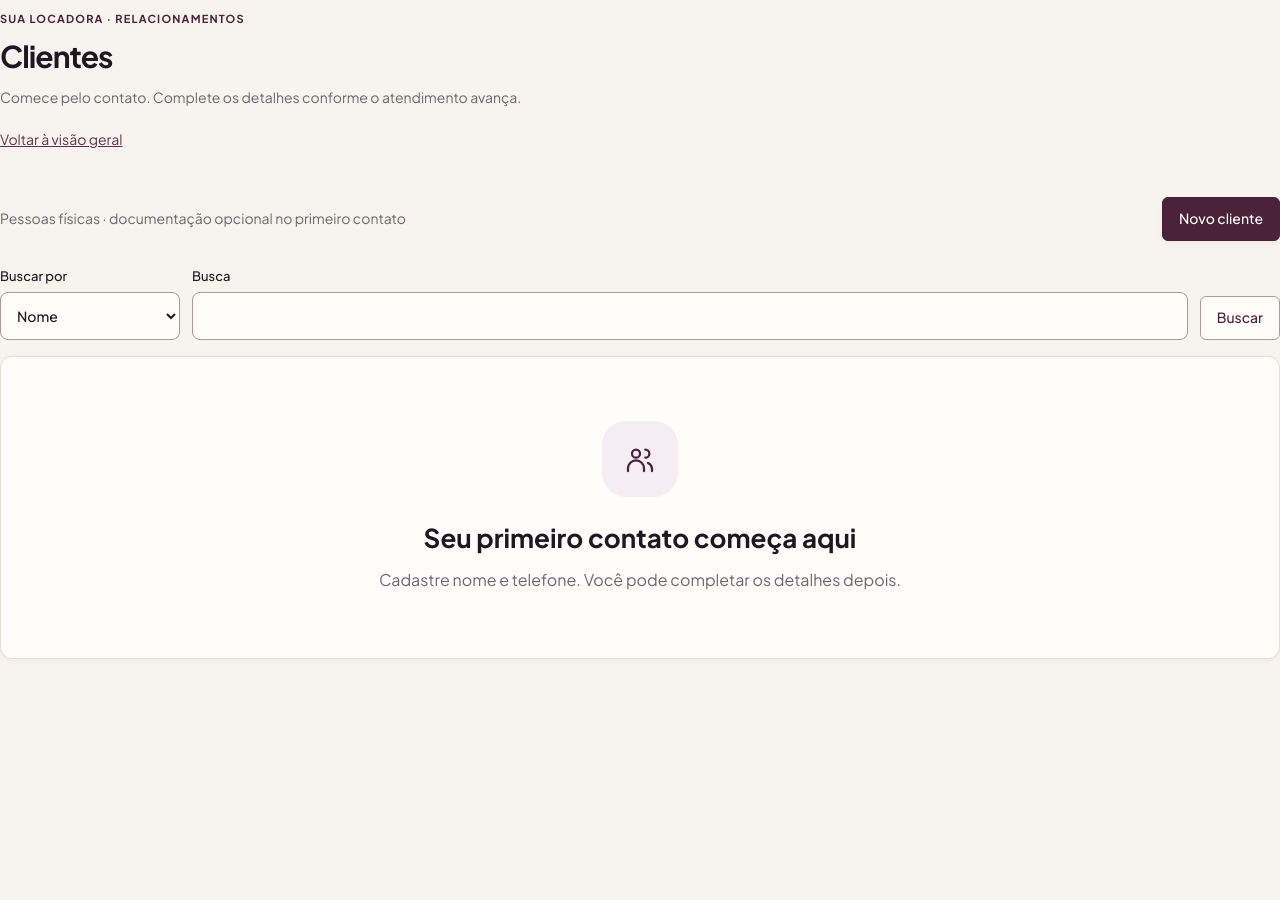
Test case: customers interface › creates minimum fields and shows the authoritative empty commercial history
Click the button "Novo cliente".
click(1221, 219)  # box [1162,197,1279,241]
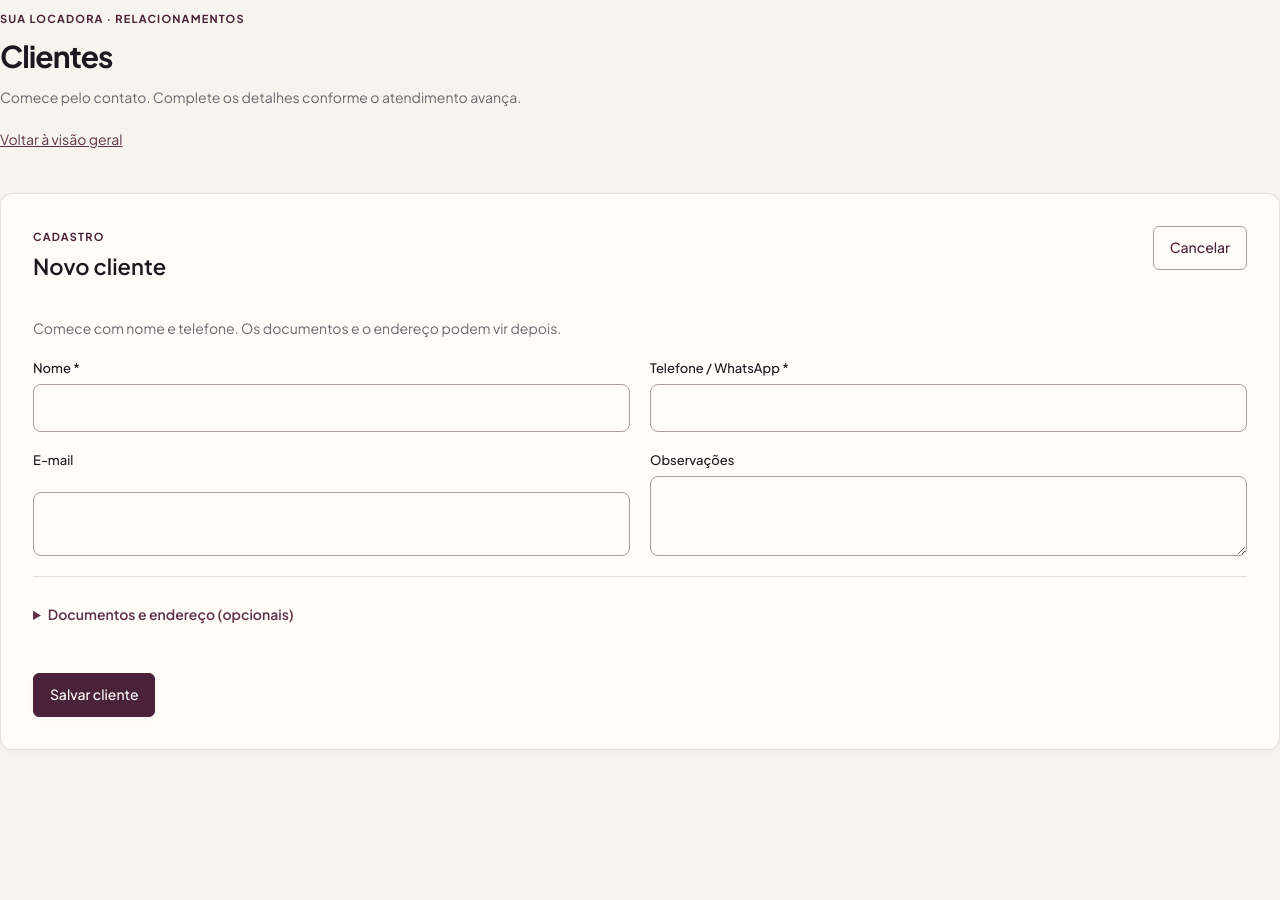
Type "Pessoa sintética" into the field labelled "Nome *".
click(332, 408); type("Pessoa sintética")  # box [33,384,630,432]
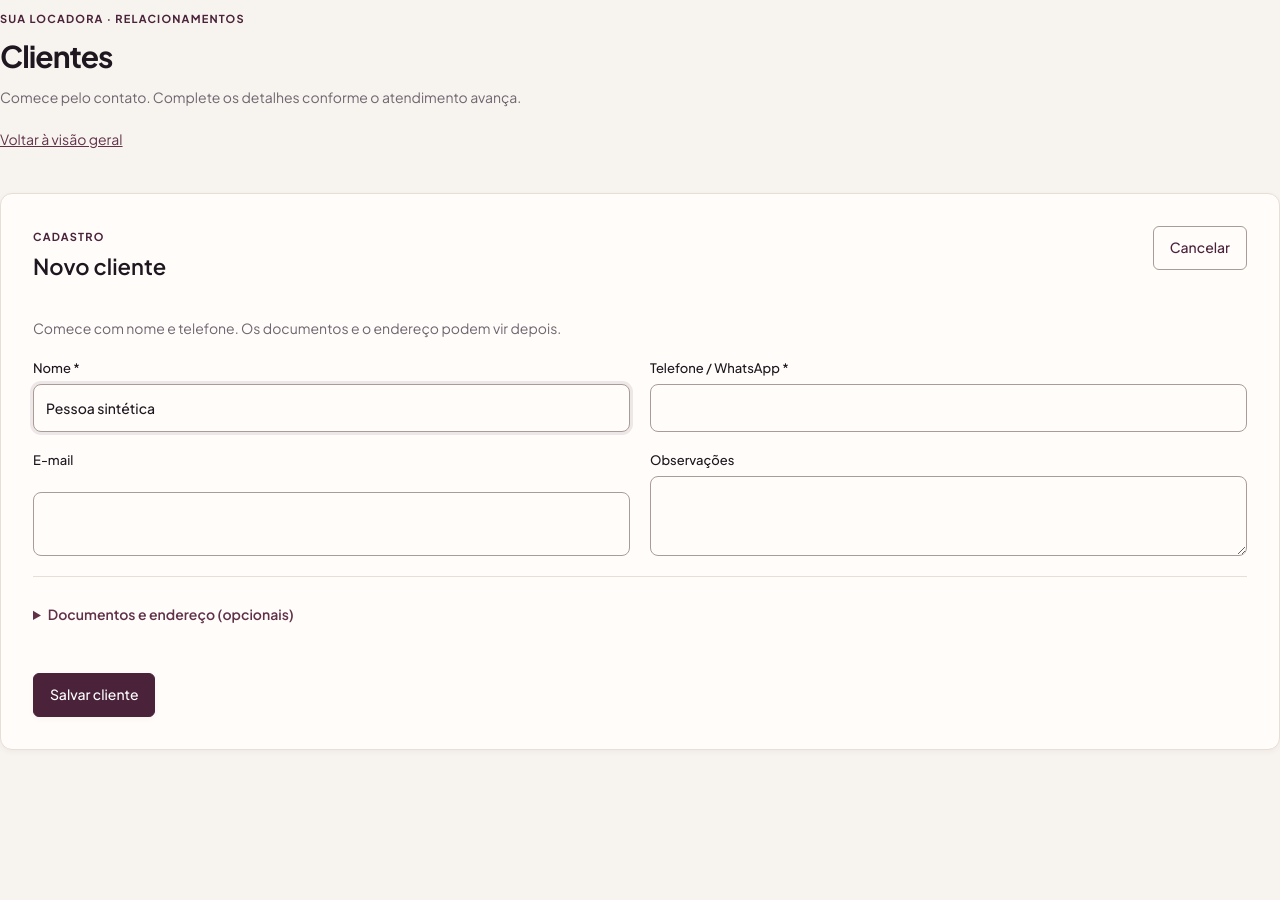
Type "(11) 91234-5678" into the field labelled "Telefone / WhatsApp *".
click(948, 408); type("(11) 91234-5678")  # box [650,384,1247,432]
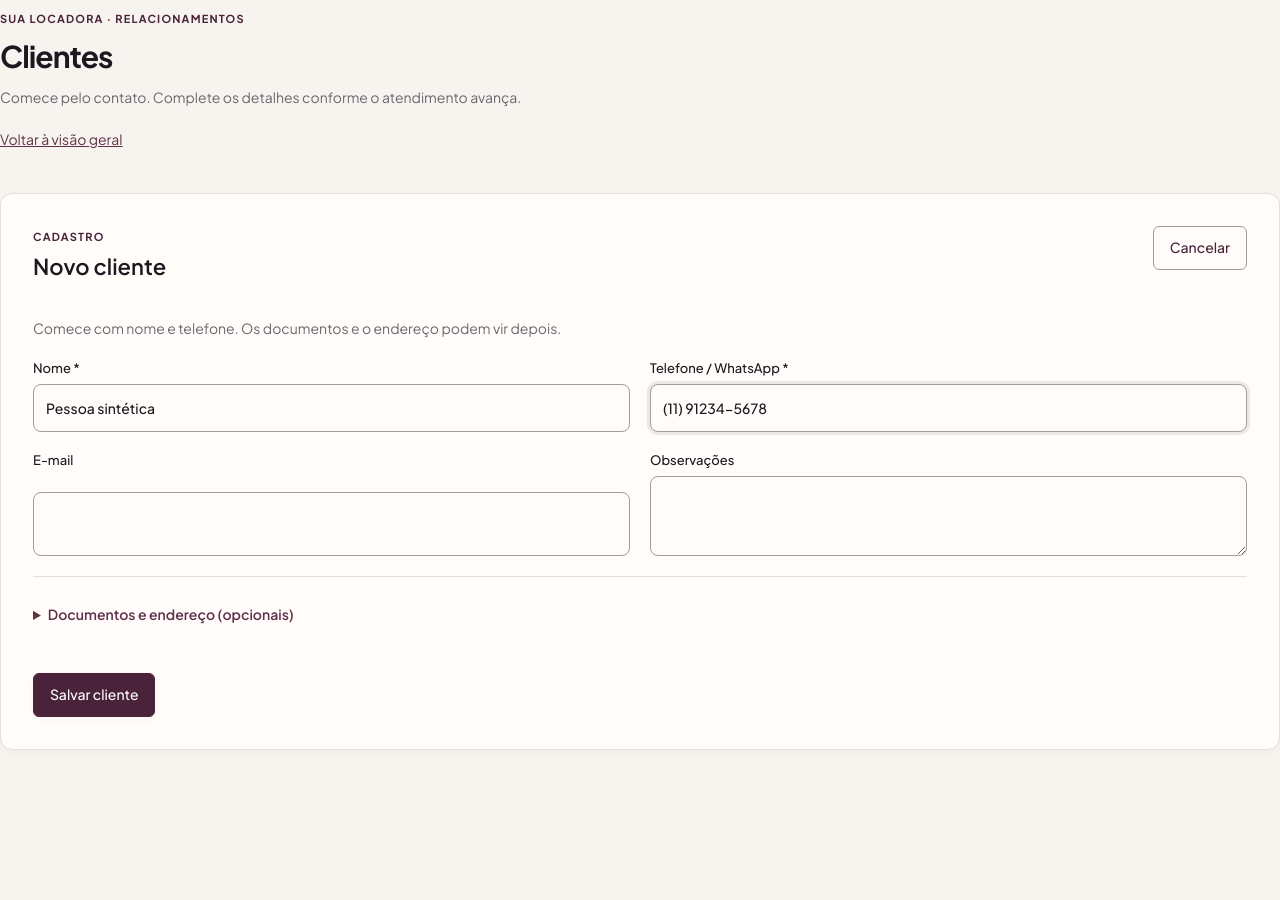
Click the button "Salvar cliente".
click(94, 695)  # box [33,673,156,717]
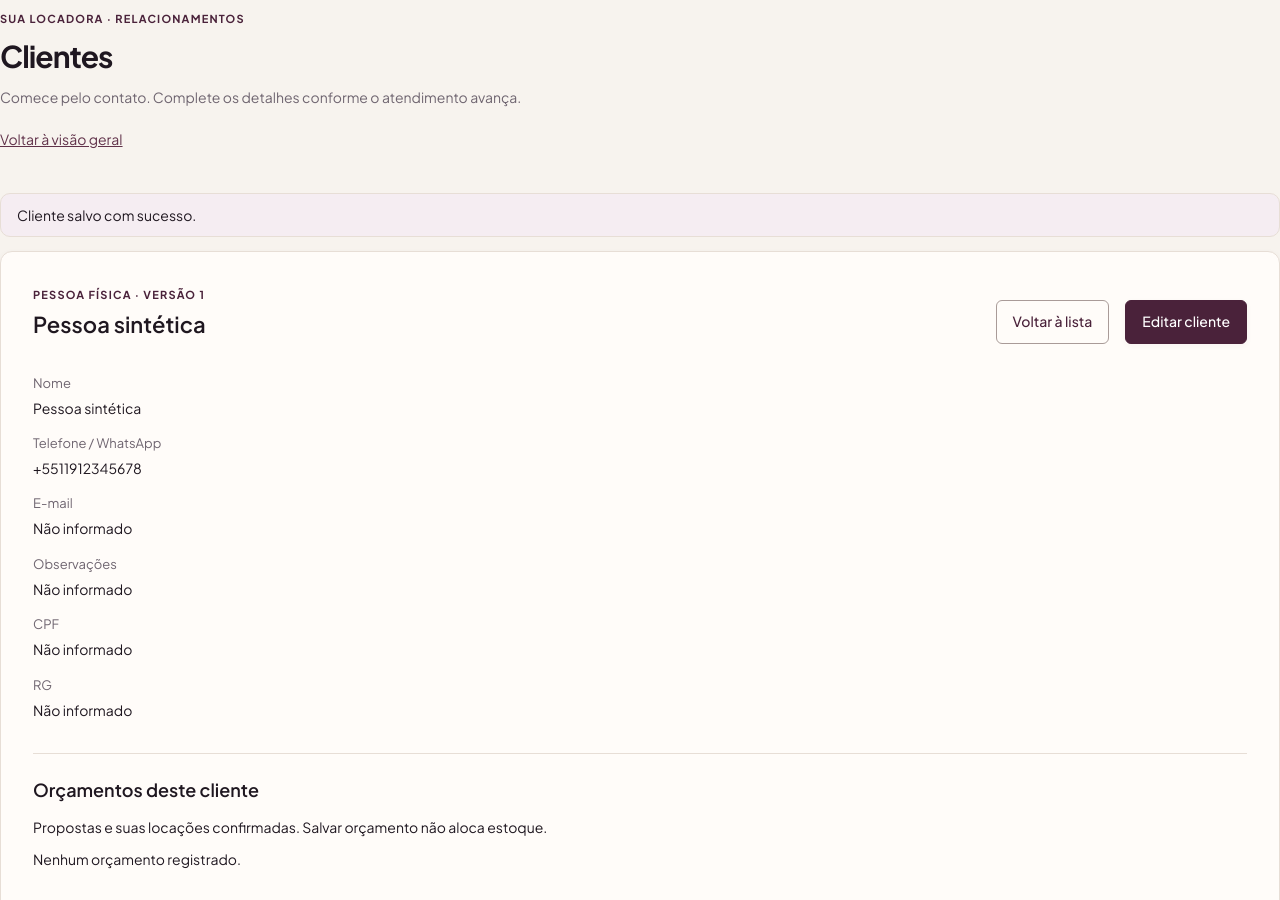
Now the text "Nenhum orçamento registrado." is shown, box [33,850,241,868]
Now the message shows "Cliente salvo com sucesso", box [17,206,196,224]
